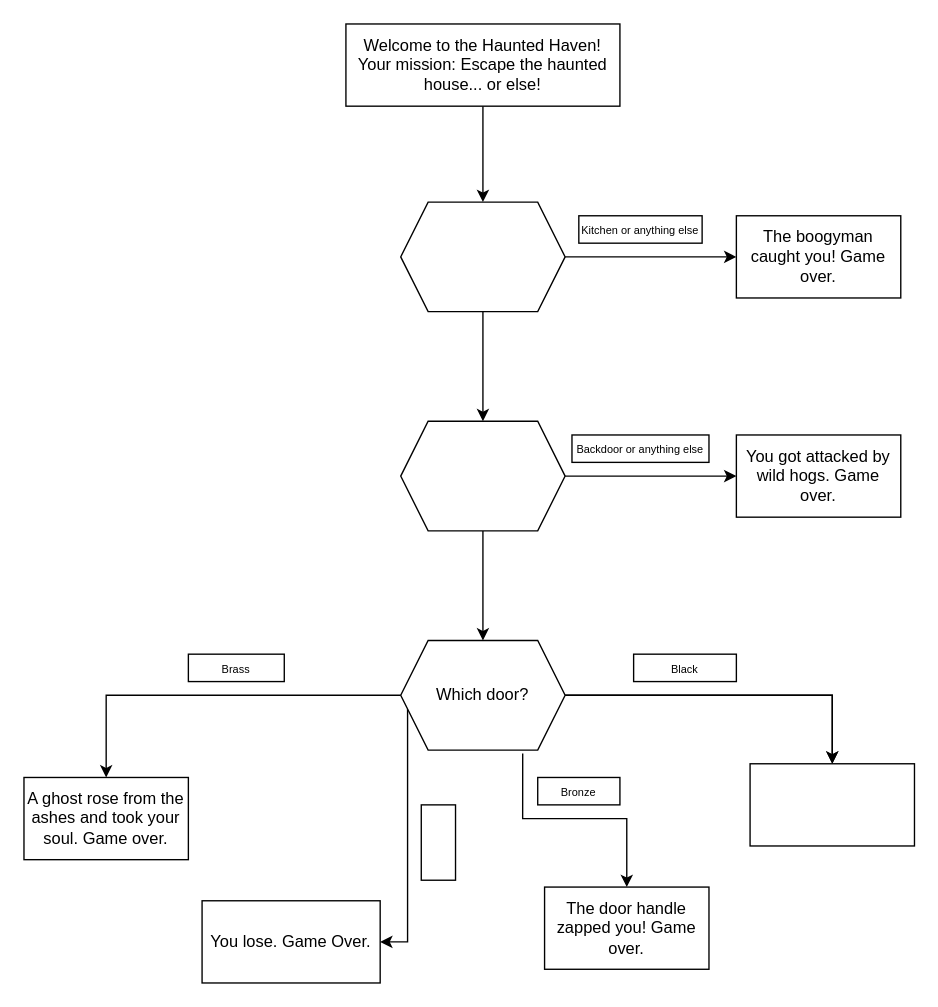
This 938x1007 diagram has some shape labels left out. The shapes that lost their labels are listed below. From the top down, each one's centre as x and y in pixels, then its label:
point (482, 256): Kitchen or Living Room?
point (482, 475): Backdoor or basement?
point (831, 804): You escaped the Haunted house! You win!
point (438, 842): anything else
